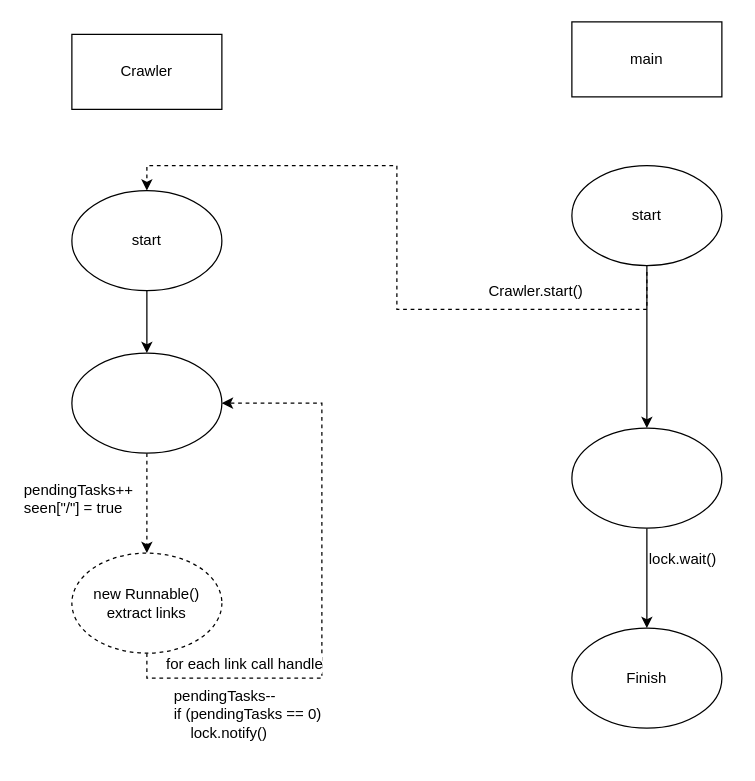
The diagram is 755 pixels wide and 781 high, and some of its shapes have lost their labels. Here are the shapes that lost their labels. From the top down, the centre of each, then its label:
[146,402]: handle("/" )
[646,477]: Crawler.join()
